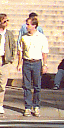person: (17, 18, 43, 111)
